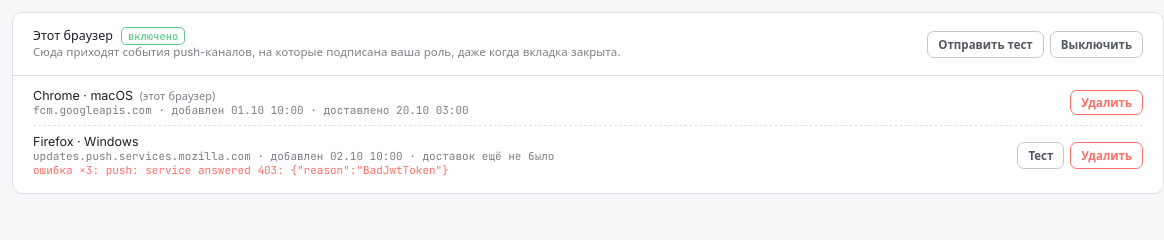
Test: TestPushSettingsTestGone: a test to an expired browser reports it
Click the button with aria-label "Тест на Firefox · Windows" at (1041, 156), box x1=1017 y1=142 x2=1064 y2=169
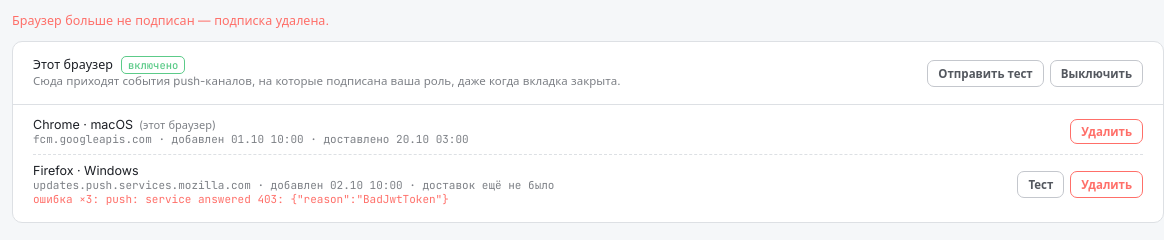
Expected: the message shows "больше не подписан", x1=12 y1=13 x2=329 y2=28
